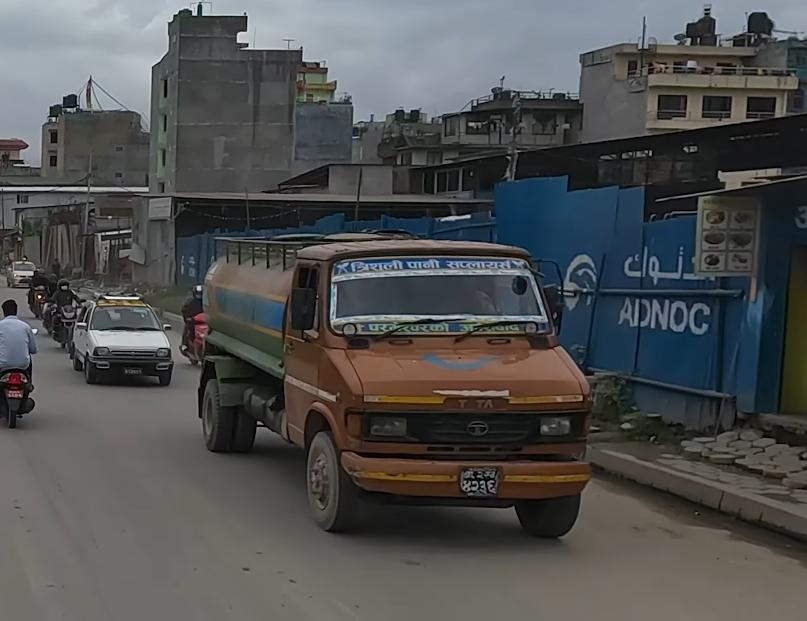mini_truck: (195, 224, 619, 543)
scooter: (0, 299, 39, 436)
taxi: (70, 292, 179, 393)
